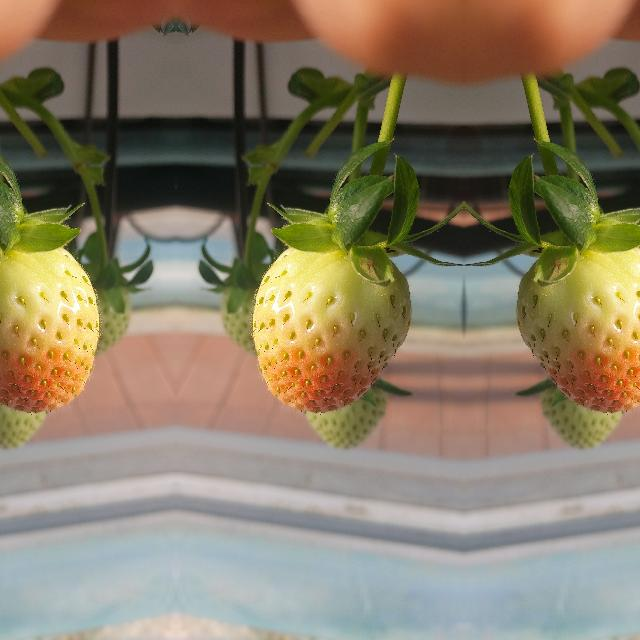Health_50: (252, 248, 411, 412), (515, 247, 640, 412), (0, 247, 98, 412)
